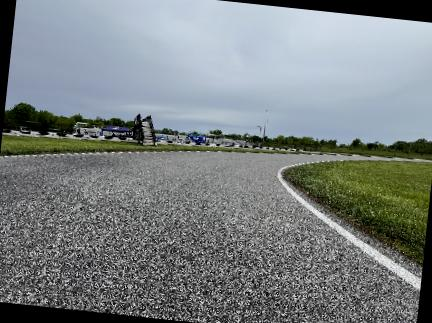Grass: (287, 161, 431, 263), (0, 135, 303, 155)
Lane: (0, 152, 419, 322)
